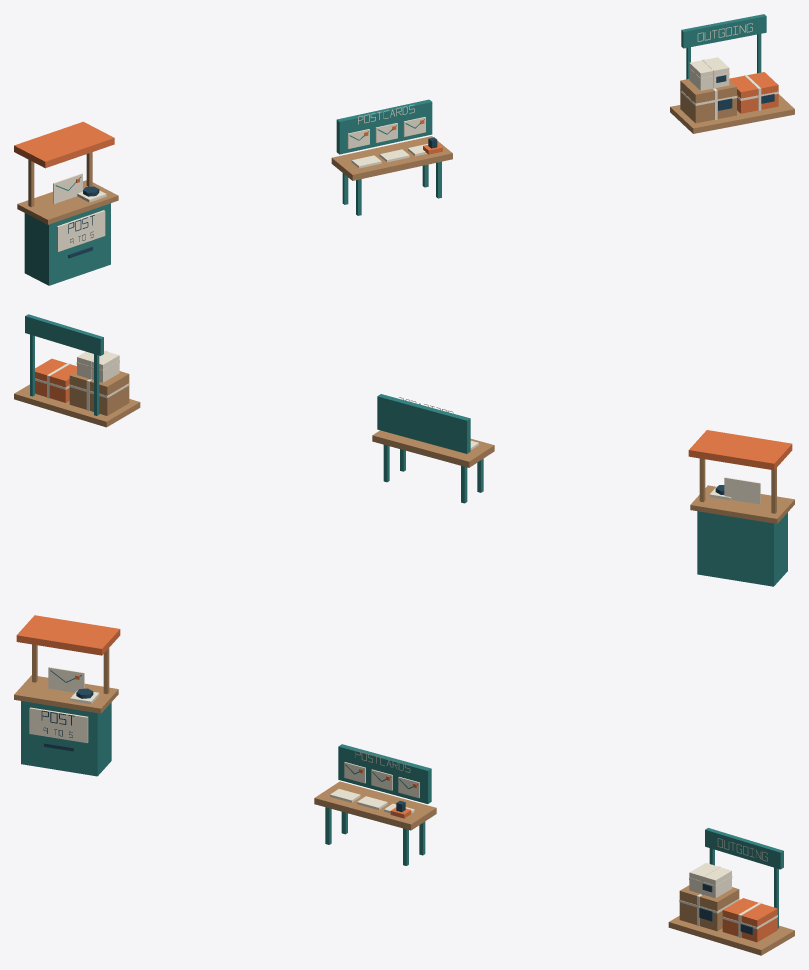
The model's file is connect.glb.
3 views of the same model, one above another, from view 1: azimuth 30°, elevation 25°; view 2: azimuth 150°, elevation 25°; view 3: azimuth 330°, elevation 25° (orthographic). The views are drawn at different scales.
Visible parts, largest first — view 1: static_detail_teal, static_detail_wood, static_detail_ivory, static_detail_orange, static_detail_navy; view 2: static_detail_teal, static_detail_wood, static_detail_orange, static_detail_ivory; view 3: static_detail_teal, static_detail_wood, static_detail_ivory, static_detail_orange, static_detail_navy.
Part boxes in pixels (x1,y1,x2,y2): static_detail_teal: (24, 14, 766, 285); static_detail_wood: (17, 79, 794, 224); static_detail_ivory: (53, 23, 778, 251); static_detail_orange: (14, 72, 778, 182); static_detail_navy: (68, 75, 774, 258); static_detail_teal: (25, 314, 787, 586); static_detail_wood: (14, 371, 794, 523); static_detail_orange: (35, 358, 792, 470); static_detail_ivory: (35, 350, 760, 504); static_detail_teal: (21, 670, 783, 928); static_detail_wood: (14, 644, 794, 955); static_detail_ivory: (29, 667, 777, 937); static_detail_orange: (16, 615, 777, 942); static_detail_navy: (41, 688, 752, 934).
Size of the model in its own units: 15.69 by 2.5 by 1.54.
